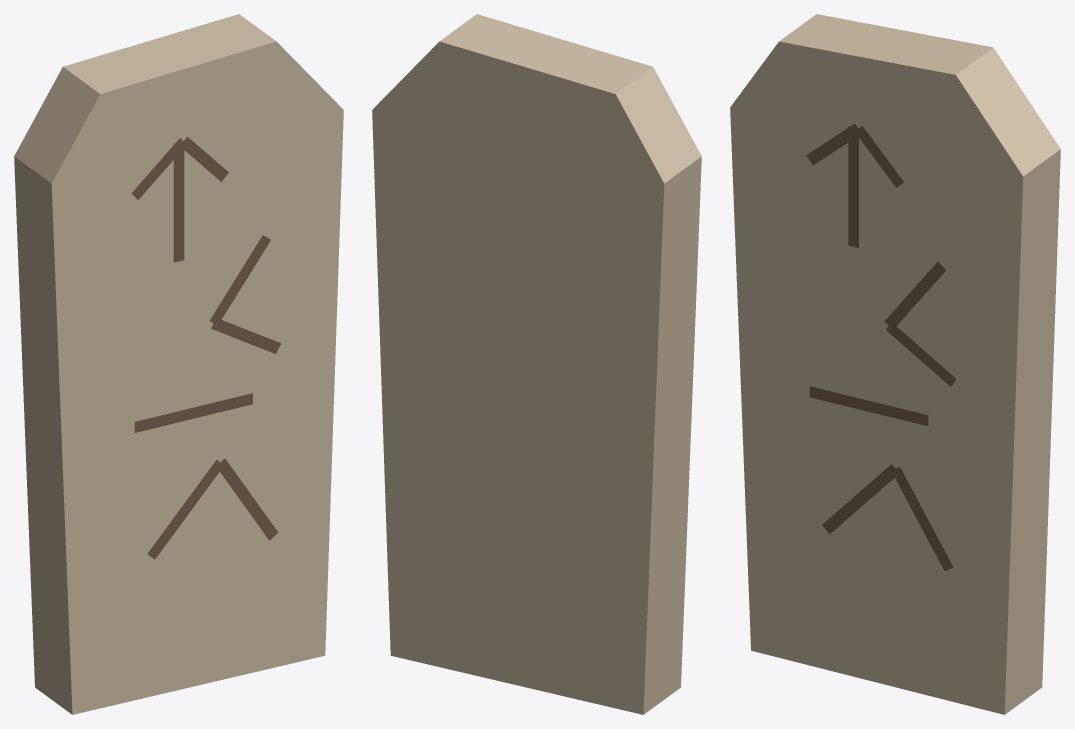
Rendered from inscribed-estela.gltf.
3 renders of one model, left to right at view 1: azimuth 30°, elevation 25°; view 2: azimuth 150°, elevation 25°; view 3: azimuth 330°, elevation 25°, orthographic.
Size of the model in its own units: 1.26 by 2.58 by 0.295.
